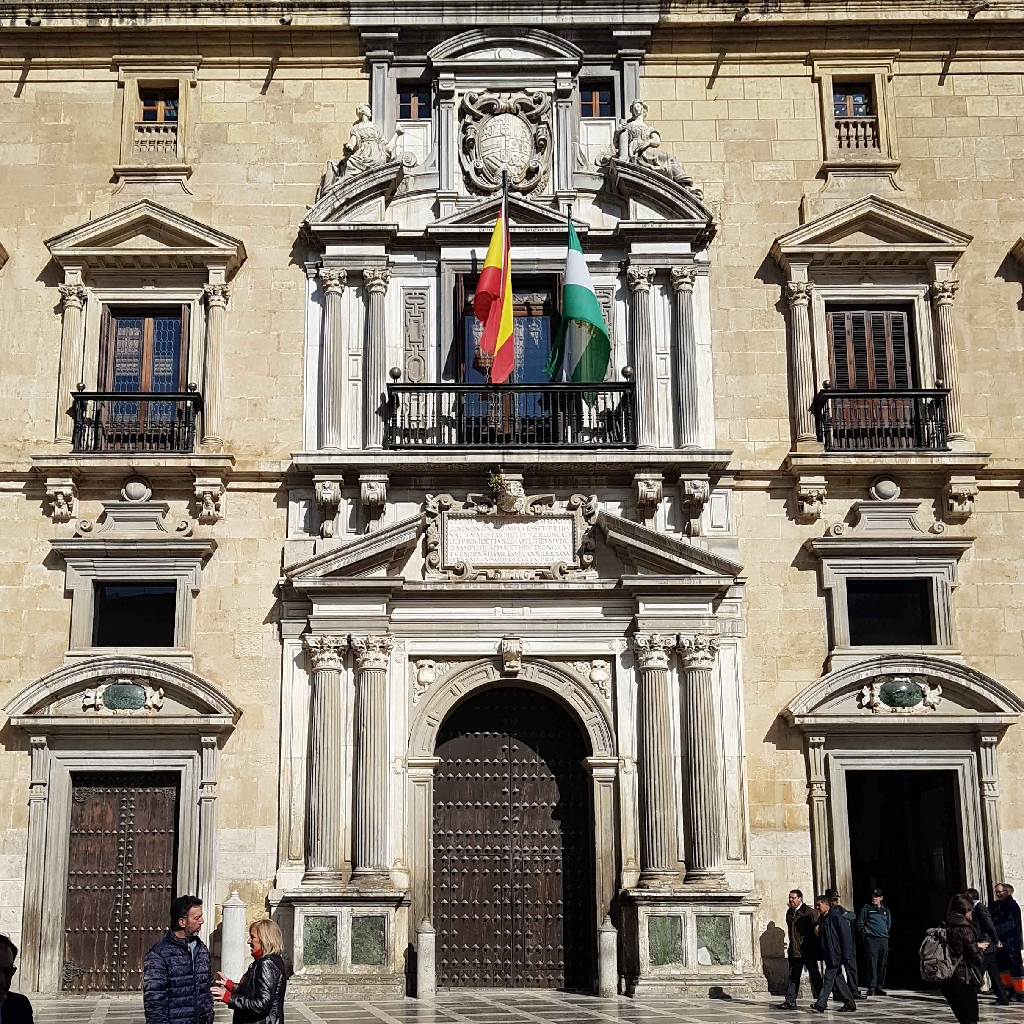arco-medio-punto: (418, 667, 611, 794)
fronton: (39, 197, 246, 267), (767, 192, 972, 259), (433, 187, 578, 242)
fronton-curvo: (2, 657, 254, 746), (776, 656, 1024, 740), (419, 25, 584, 74)
fronton-partido: (267, 507, 736, 597), (287, 158, 705, 240)
vano-adintelado: (819, 736, 986, 975), (47, 748, 198, 991), (802, 269, 946, 455), (68, 277, 213, 458)
